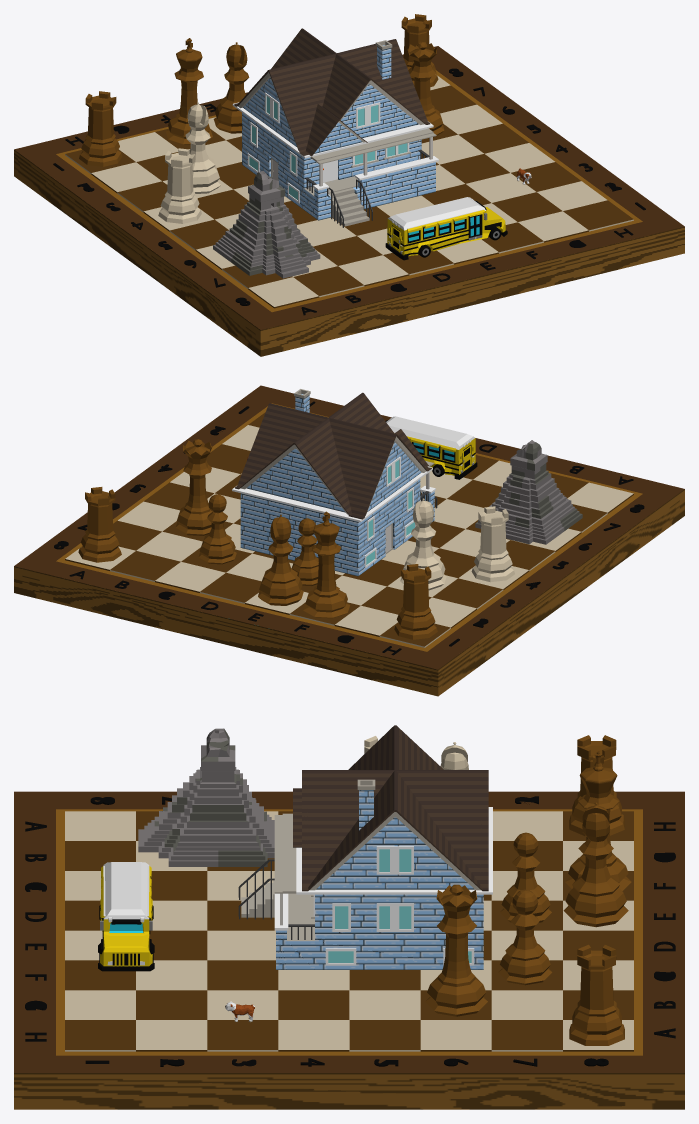
3 views of the same model, one above another, from view 1: azimuth 30°, elevation 25°; view 2: azimuth 150°, elevation 25°; view 3: azimuth 270°, elevation 25° (orthographic). The views are drawn at different scales.
Parts seen in each view (by area): view 1: Cube.002, Cube.547, OBJRANDOM_GRAN_JAGUAR, VEHICLES_SCHOOL_BUS; view 2: Cube.002, Cube.547, OBJRANDOM_GRAN_JAGUAR, VEHICLES_SCHOOL_BUS; view 3: Cube.002, Cube.547, OBJRANDOM_GRAN_JAGUAR, VEHICLES_SCHOOL_BUS.
Boxes of the visible parts, bbox=[...] form: Cube.002: bbox=[14, 14, 684, 356]; Cube.547: bbox=[232, 28, 438, 227]; OBJRANDOM_GRAN_JAGUAR: bbox=[213, 171, 320, 278]; VEHICLES_SCHOOL_BUS: bbox=[385, 197, 507, 260]; Cube.002: bbox=[14, 385, 684, 696]; Cube.547: bbox=[232, 389, 437, 576]; OBJRANDOM_GRAN_JAGUAR: bbox=[475, 440, 582, 544]; VEHICLES_SCHOOL_BUS: bbox=[385, 416, 477, 479]; Cube.002: bbox=[14, 735, 684, 1109]; Cube.547: bbox=[238, 725, 492, 969]; OBJRANDOM_GRAN_JAGUAR: bbox=[138, 728, 274, 866]; VEHICLES_SCHOOL_BUS: bbox=[98, 862, 154, 971].
Size of the model in its own units: 3981 by 1462 by 4012.
40 materials, 3 textured.
